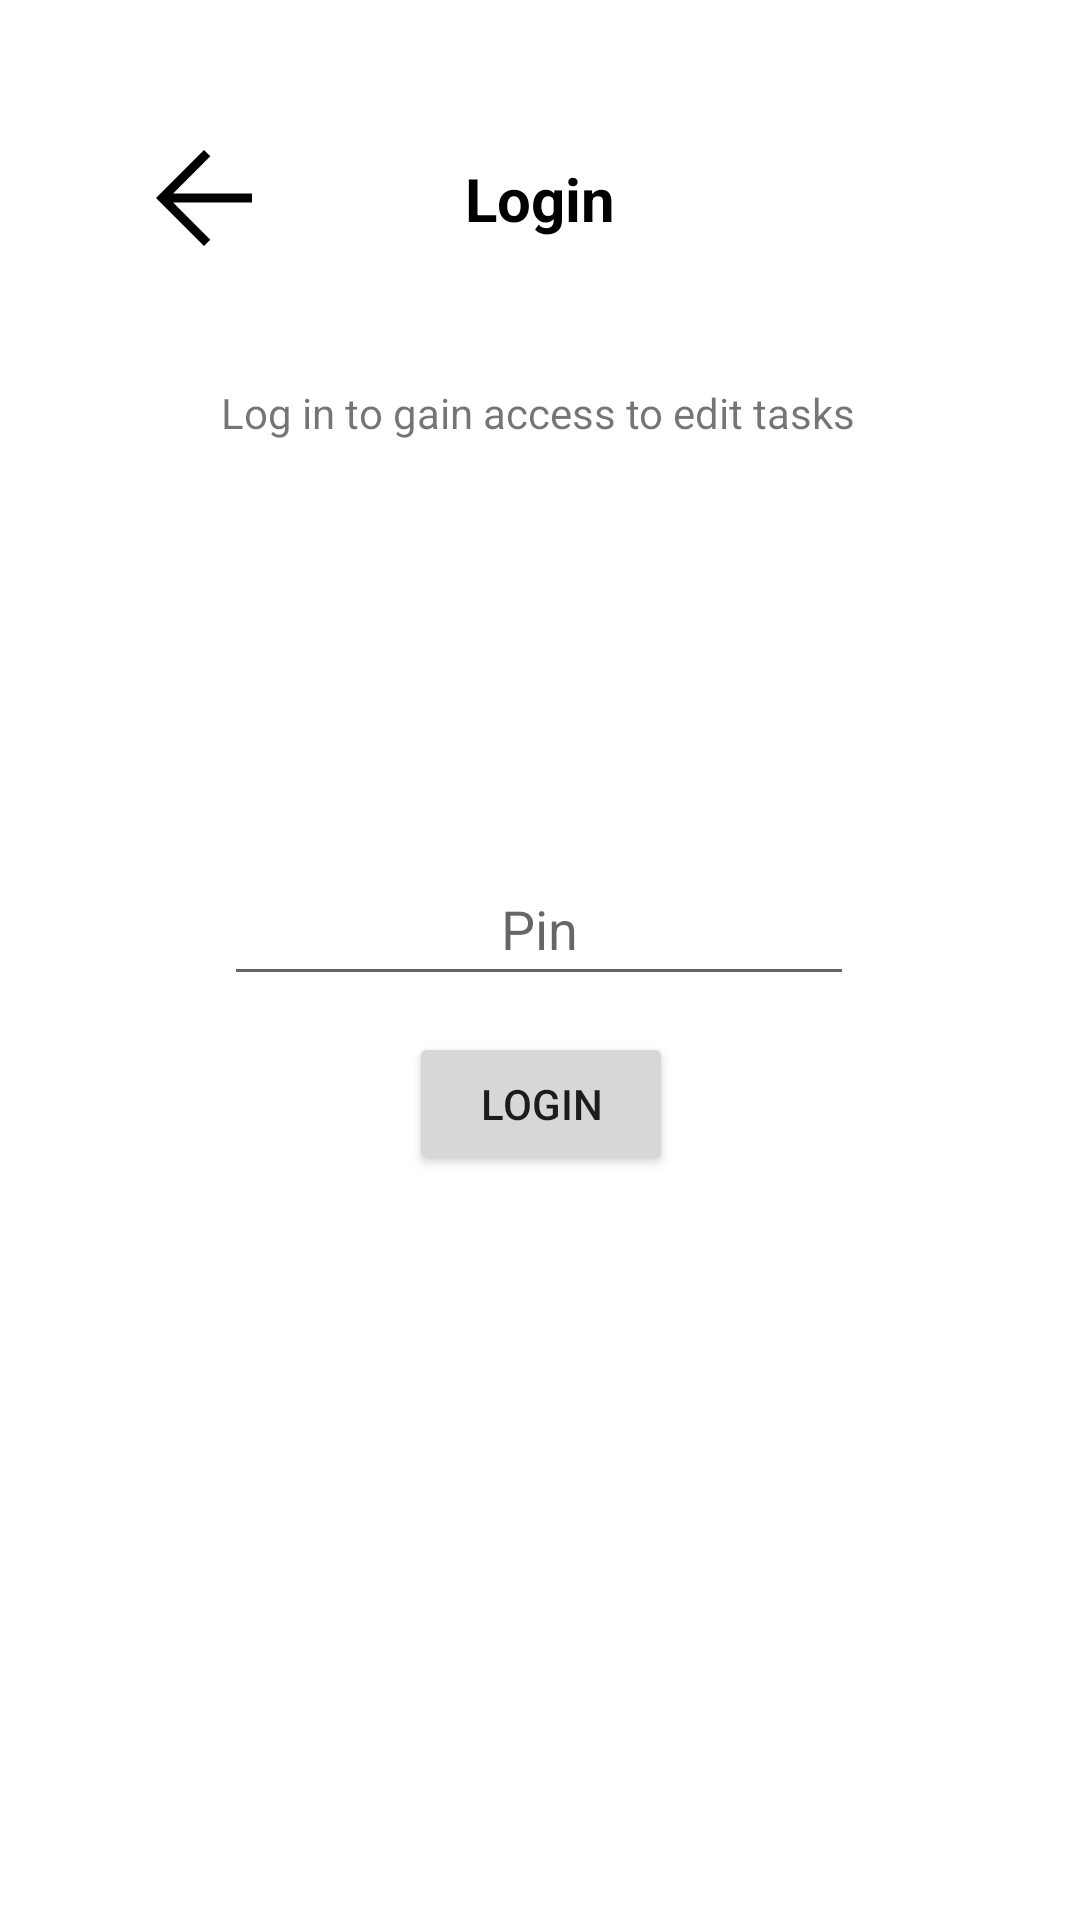

Where to tap for icons on this 1080*1920 app screen, as [x,y]:
Back: [204,198]
